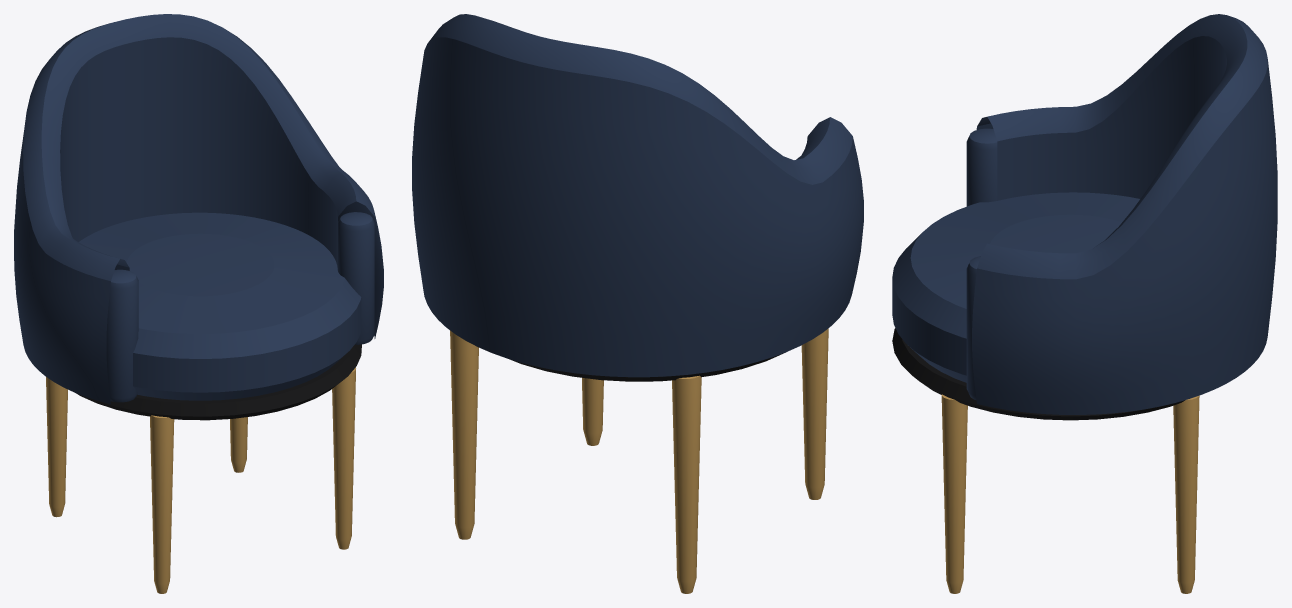
The model's file is tub_navy.glb.
3 views of the same model, side by side, from view 1: azimuth 30°, elevation 25°; view 2: azimuth 150°, elevation 25°; view 3: azimuth 270°, elevation 25° (orthographic). The views are drawn at different scales.
Visible parts, largest first — view 1: tub_navy; view 2: tub_navy; view 3: tub_navy.
Part boxes in pixels (x1=…): tub_navy: x1=14, y1=14, x2=383, y2=593; tub_navy: x1=412, y1=14, x2=863, y2=593; tub_navy: x1=892, y1=14, x2=1277, y2=593.
Bounding box in the file's own units: 0.5992 × 0.808 × 0.5663.
